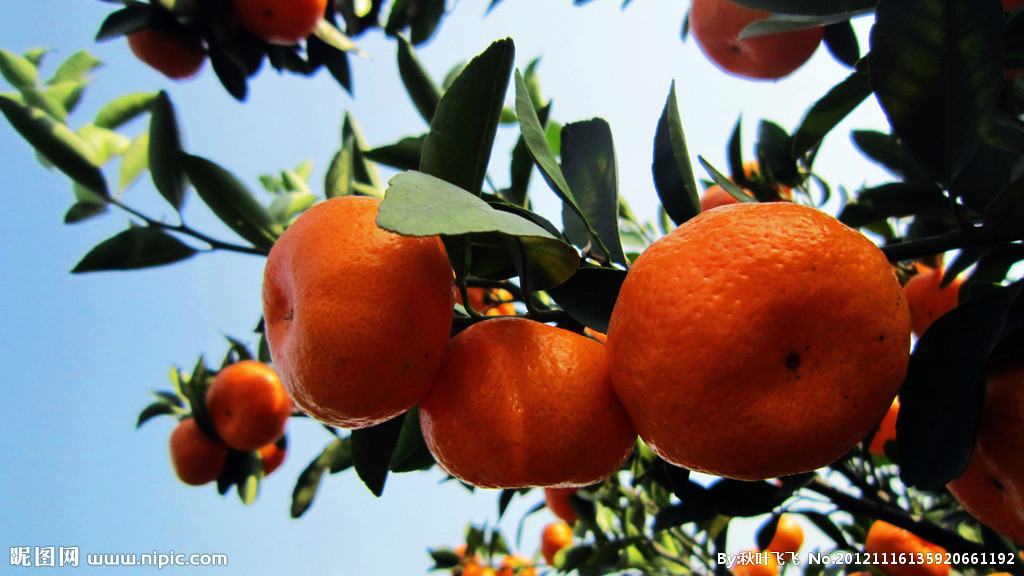orange: (607, 203, 909, 478), (261, 195, 451, 428), (420, 314, 639, 487), (687, 1, 826, 85), (207, 360, 287, 452), (129, 16, 215, 80), (205, 1, 324, 47), (171, 419, 225, 484)
